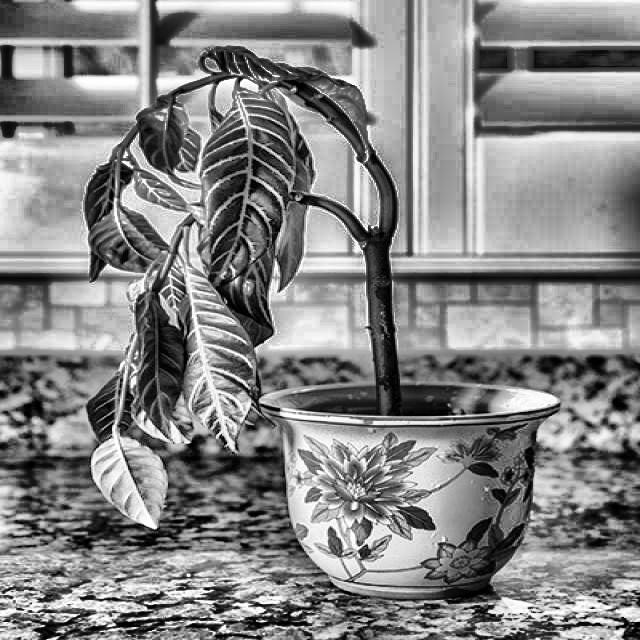plants: (49, 38, 520, 594)
